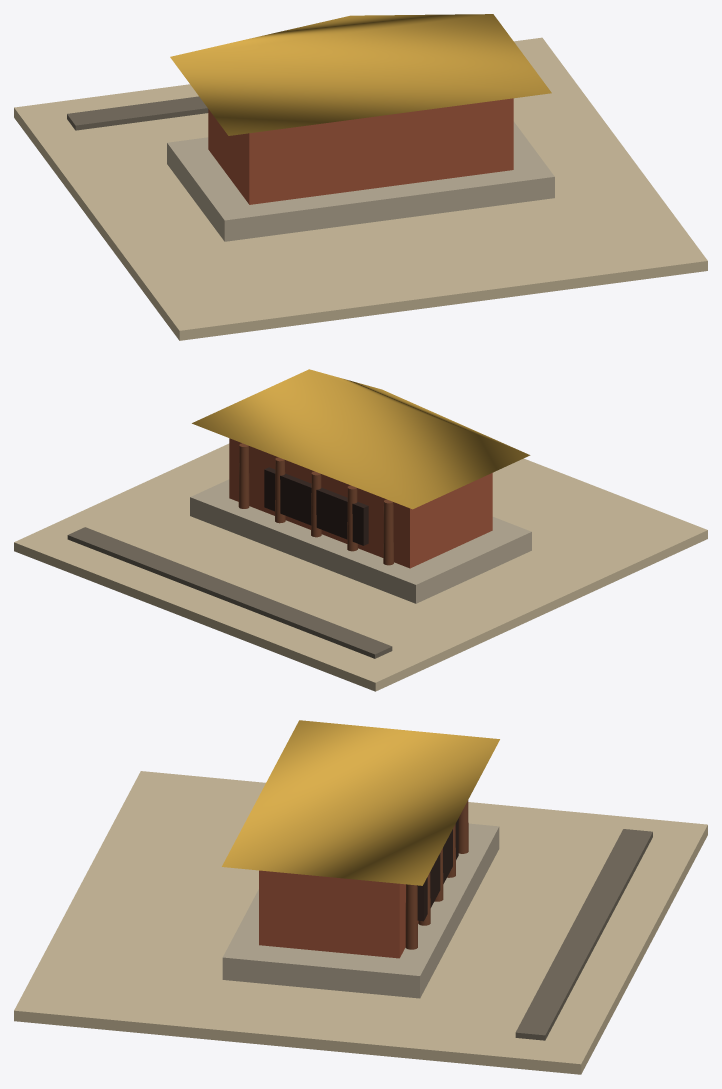
File: model-medium.glb
3 views of the same model, one above another, from view 1: azimuth 30°, elevation 25°; view 2: azimuth 150°, elevation 25°; view 3: azimuth 270°, elevation 25° (orthographic). The views are drawn at different scales.
Parts seen in each view (by area): view 1: context_site_plinth, sweeping_tiled_roof, main_hall_wall_volume, raised_ceremonial_platform, front_scale_strip; view 2: context_site_plinth, sweeping_tiled_roof, raised_ceremonial_platform, main_hall_wall_volume, front_scale_strip, central_shadow_door, front_column_1, front_column_5, front_column_2, front_column_3; view 3: context_site_plinth, sweeping_tiled_roof, raised_ceremonial_platform, main_hall_wall_volume, front_scale_strip, central_shadow_door, front_column_5.
Part boxes in pixels (x1=…): context_site_plinth: x1=14, y1=37, x2=707, y2=340; sweeping_tiled_roof: x1=170, y1=14, x2=551, y2=135; main_hall_wall_volume: x1=208, y1=98, x2=513, y2=204; raised_ceremonial_platform: x1=167, y1=121, x2=554, y2=241; front_scale_strip: x1=67, y1=96, x2=208, y2=130; context_site_plinth: x1=14, y1=443, x2=707, y2=691; sweeping_tiled_roof: x1=192, y1=369, x2=530, y2=509; raised_ceremonial_platform: x1=190, y1=479, x2=531, y2=603; main_hall_wall_volume: x1=229, y1=438, x2=492, y2=568; front_scale_strip: x1=67, y1=527, x2=392, y2=658; central_shadow_door: x1=264, y1=467, x2=368, y2=545; front_column_1: x1=383, y1=499, x2=393, y2=565; front_column_5: x1=238, y1=443, x2=249, y2=508; front_column_2: x1=347, y1=485, x2=357, y2=551; front_column_3: x1=311, y1=471, x2=321, y2=537; context_site_plinth: x1=14, y1=771, x2=707, y2=1074; sweeping_tiled_roof: x1=222, y1=720, x2=499, y2=885; raised_ceremonial_platform: x1=222, y1=823, x2=499, y2=998; main_hall_wall_volume: x1=259, y1=870, x2=418, y2=958; front_scale_strip: x1=515, y1=829, x2=652, y2=1040; central_shadow_door: x1=417, y1=818, x2=458, y2=921; front_column_5: x1=405, y1=884, x2=417, y2=949.
Size of the model in its own units: 9.55 by 2.62 by 9.55.
